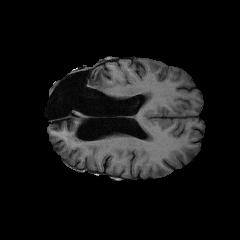glioma: (54, 67, 112, 101)
